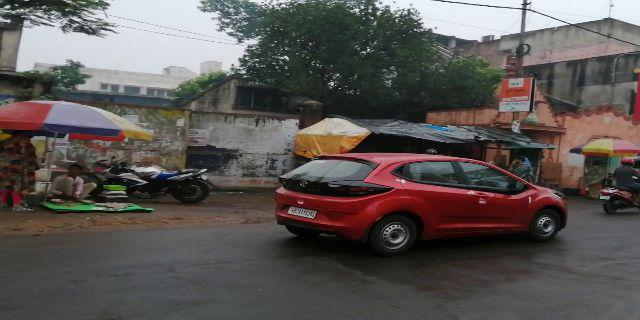Car: (271, 149, 577, 258)
